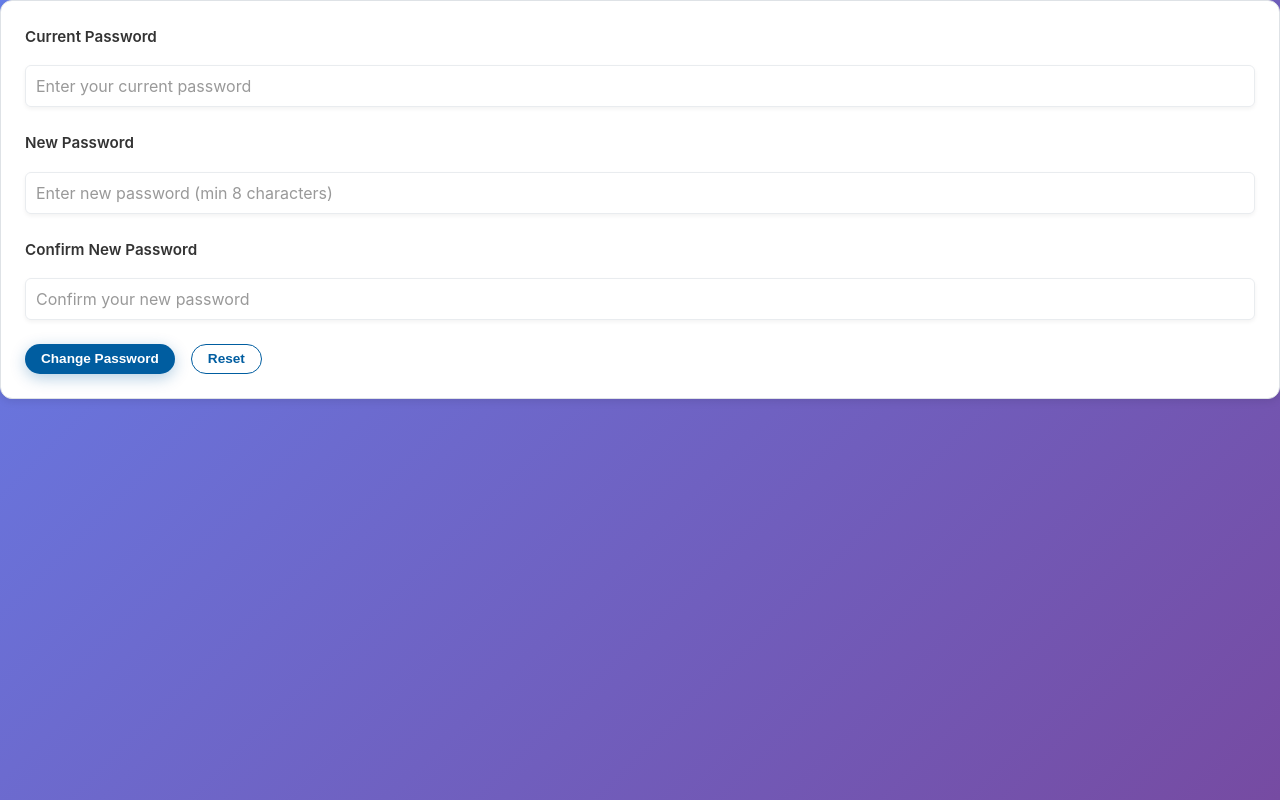
PasswordChangeCard Component › Form Validation › shows error when fields are empty
Click the button "Change Password": {"x": 100, "y": 359} top-left (25, 344), bottom-right (175, 374)
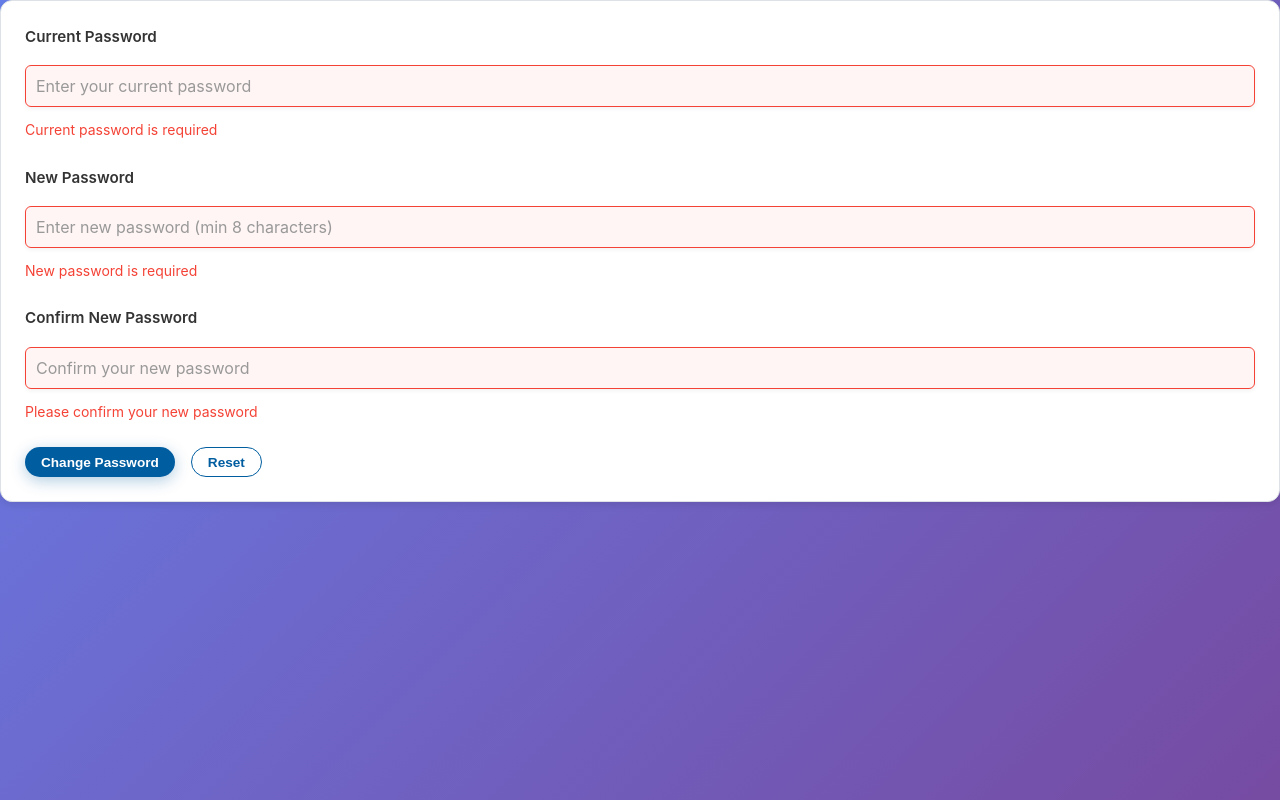
Check: the text "Current password is required" is shown, box top-left (25, 121), bottom-right (217, 138)
